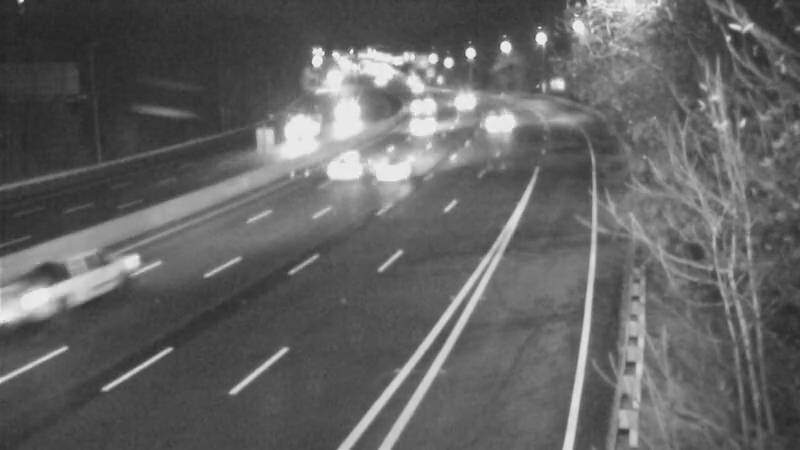vehicle: (353, 127, 433, 207), (307, 123, 387, 203), (21, 247, 101, 327), (438, 75, 488, 125), (394, 82, 444, 132), (470, 97, 520, 147), (401, 97, 451, 147), (276, 99, 326, 149), (320, 82, 370, 132)
